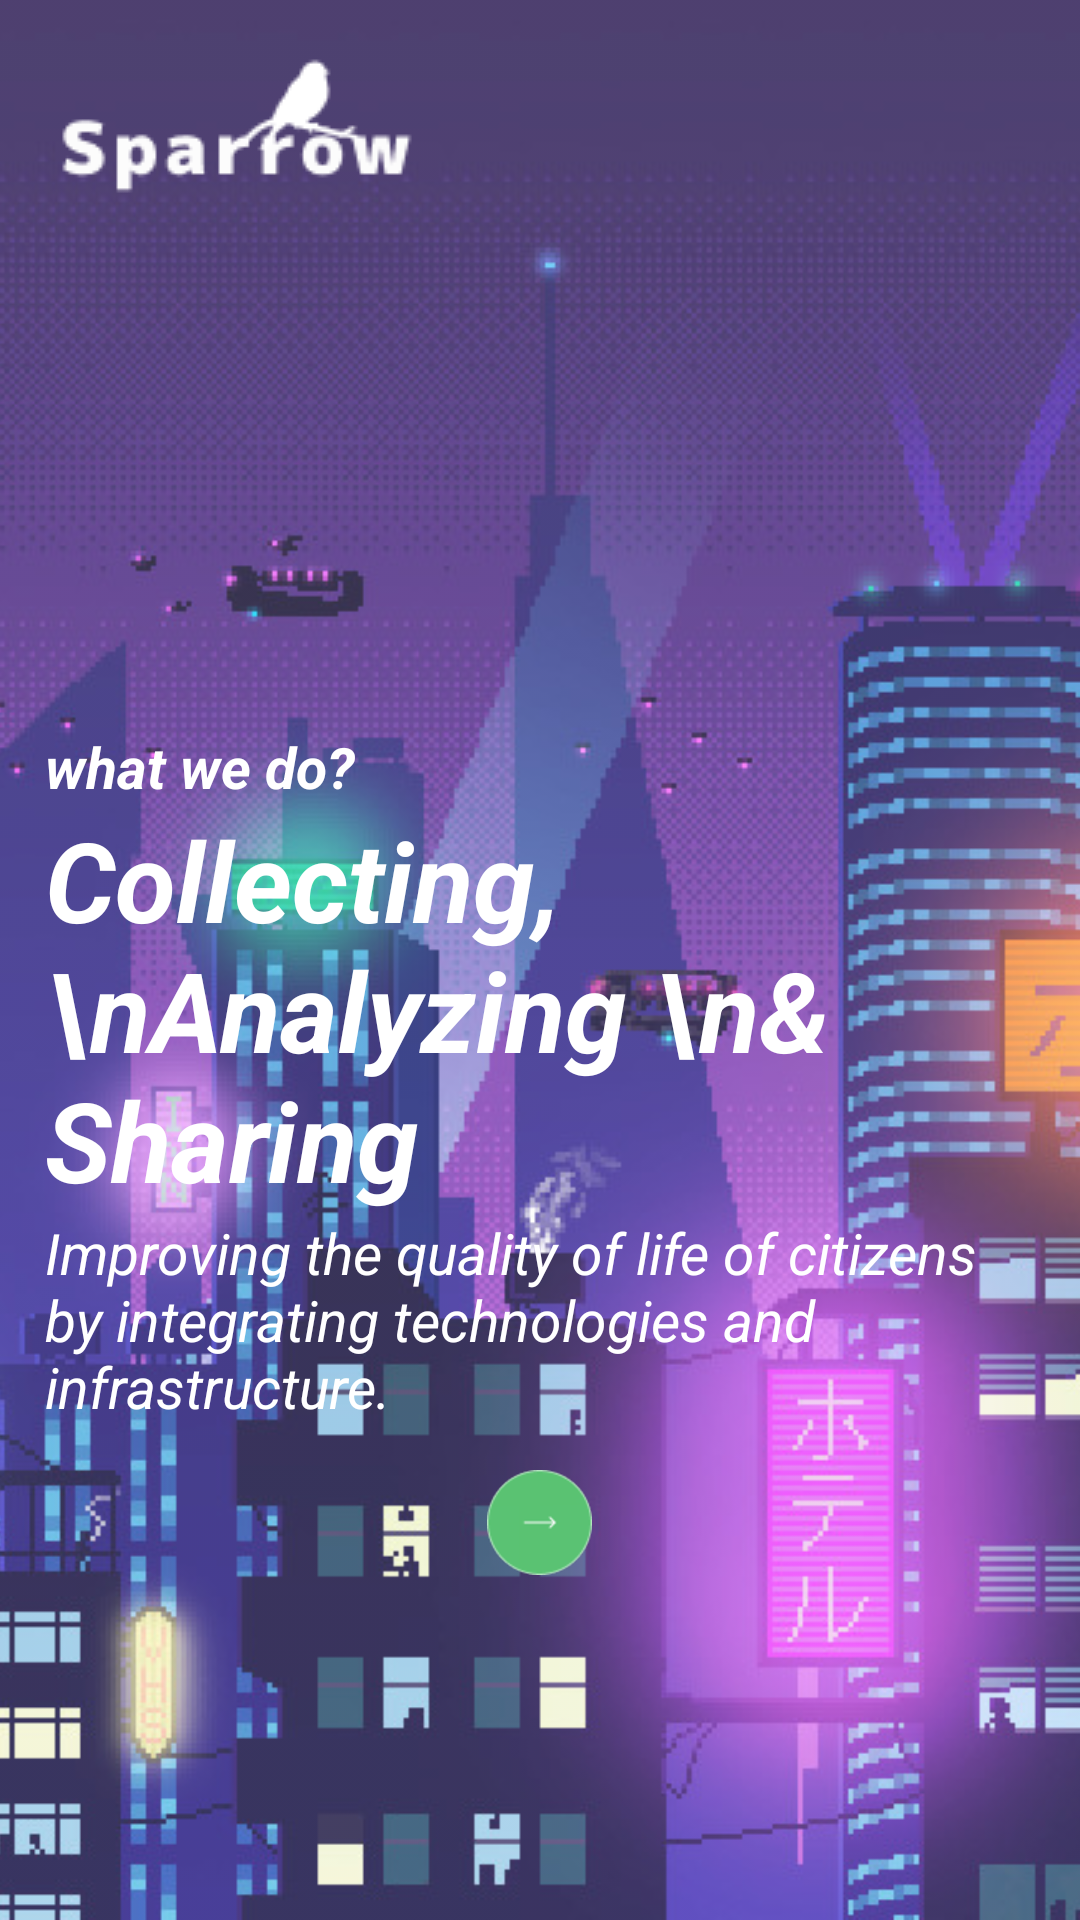

Named icons in this screenshot (1080px x 1920px) and their centers, [x,y]:
next: [539,1522]
